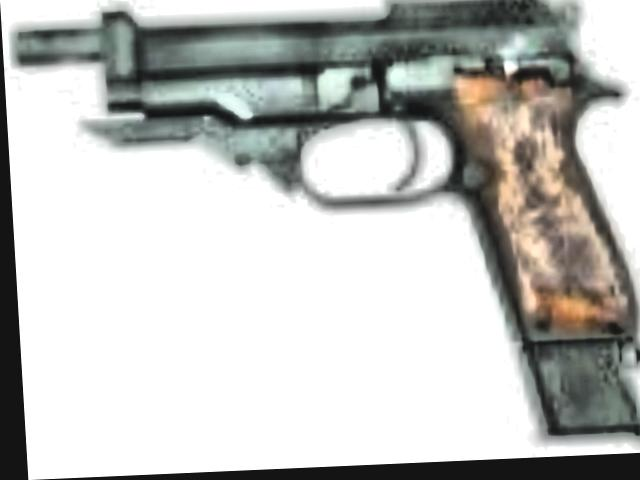pistol: (4, 0, 640, 472)
